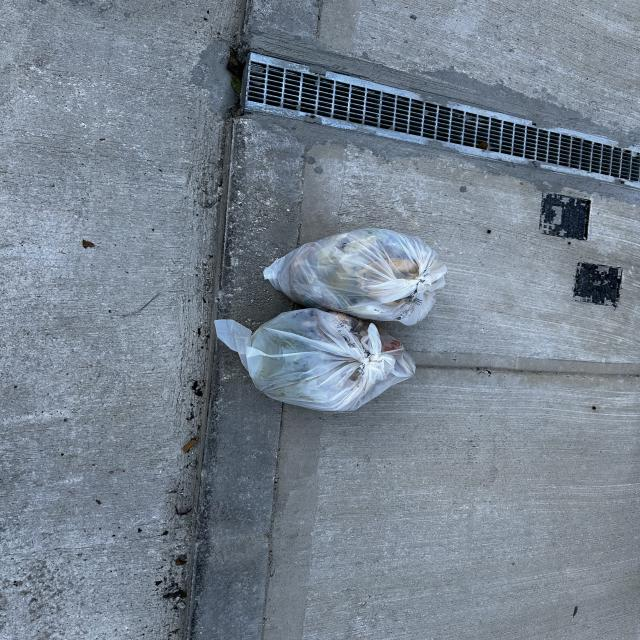Organic Waste -White Bags-: (214, 228, 447, 411)
